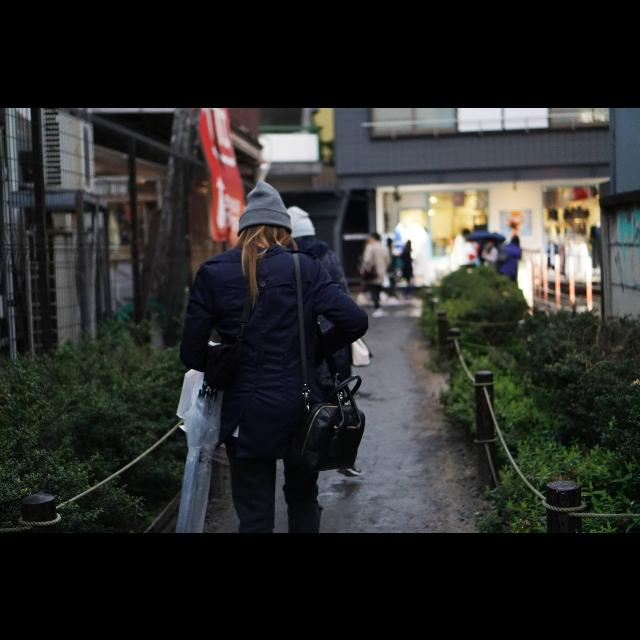head: (240, 203, 292, 250), (280, 208, 316, 244), (369, 231, 381, 243), (512, 236, 520, 244)
person: (230, 205, 372, 481), (358, 231, 388, 309), (497, 234, 523, 298)
